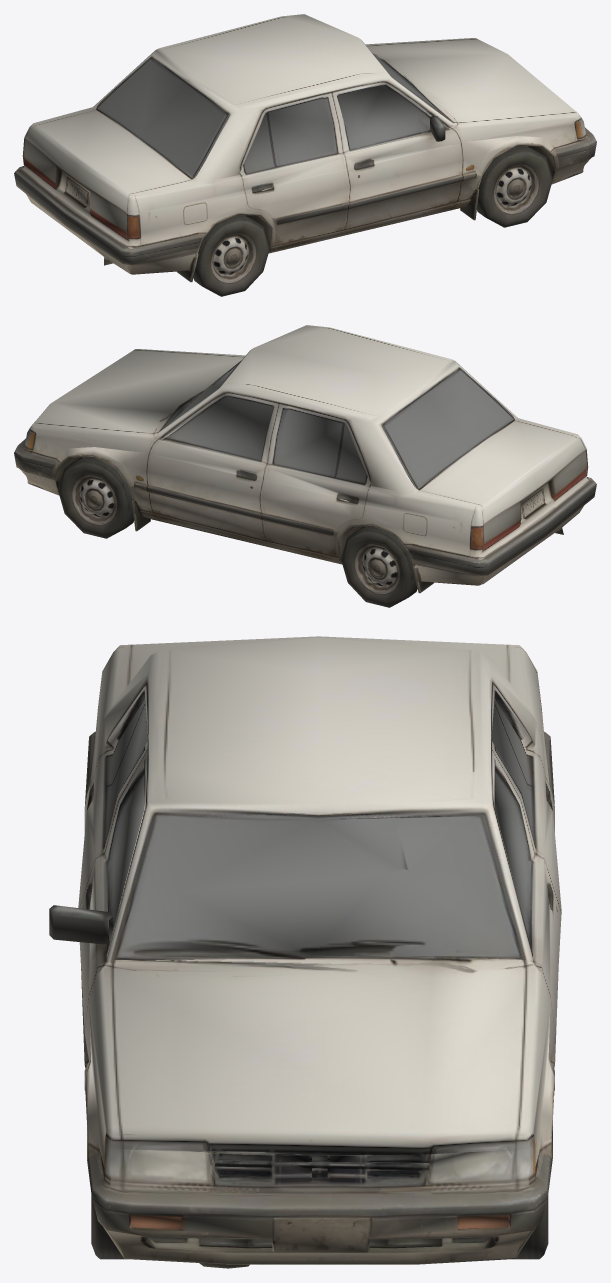
File: Car 1.fbx
3 views of the same model, one above another, from view 1: azimuth 30°, elevation 25°; view 2: azimuth 150°, elevation 25°; view 3: azimuth 270°, elevation 25° (orthographic). The views are drawn at different scales.
Parts seen in each view (by area): view 1: tripo_node_cf5443c0-a772-4760-97b9-e29b9ae65c11; view 2: tripo_node_cf5443c0-a772-4760-97b9-e29b9ae65c11; view 3: tripo_node_cf5443c0-a772-4760-97b9-e29b9ae65c11.
Boxes of the visible parts, x1=… form: tripo_node_cf5443c0-a772-4760-97b9-e29b9ae65c11: x1=14, y1=14, x2=596, y2=296; tripo_node_cf5443c0-a772-4760-97b9-e29b9ae65c11: x1=14, y1=325, x2=596, y2=607; tripo_node_cf5443c0-a772-4760-97b9-e29b9ae65c11: x1=49, y1=636, x2=561, y2=1268.
Bounding box in the file's own units: 99.8 × 34.64 × 45.4.
1 material, 1 textured.
